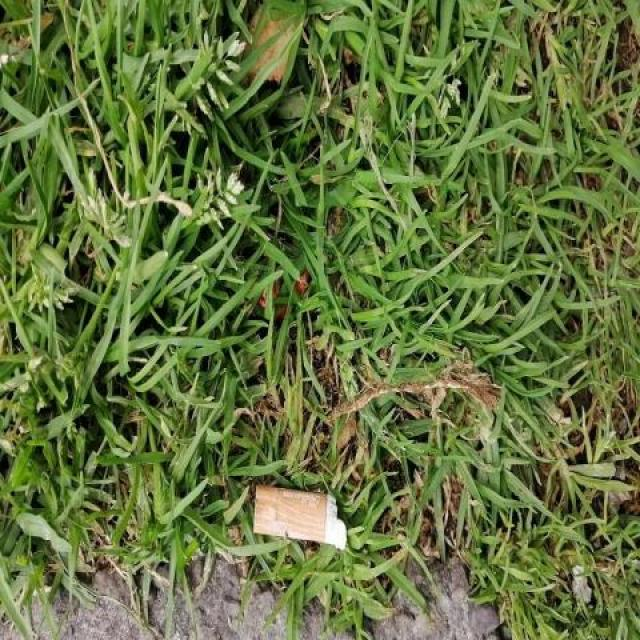non-organic waste: (247, 478, 354, 553)
